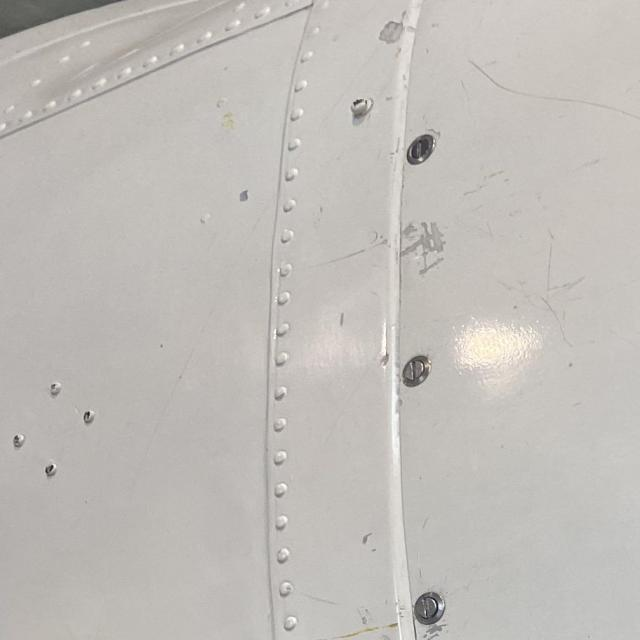Paint-off: (396, 219, 443, 271), (330, 302, 354, 331), (415, 622, 452, 640), (378, 21, 403, 43), (236, 188, 250, 202), (360, 531, 372, 545)
Scratch: (307, 235, 394, 269)
